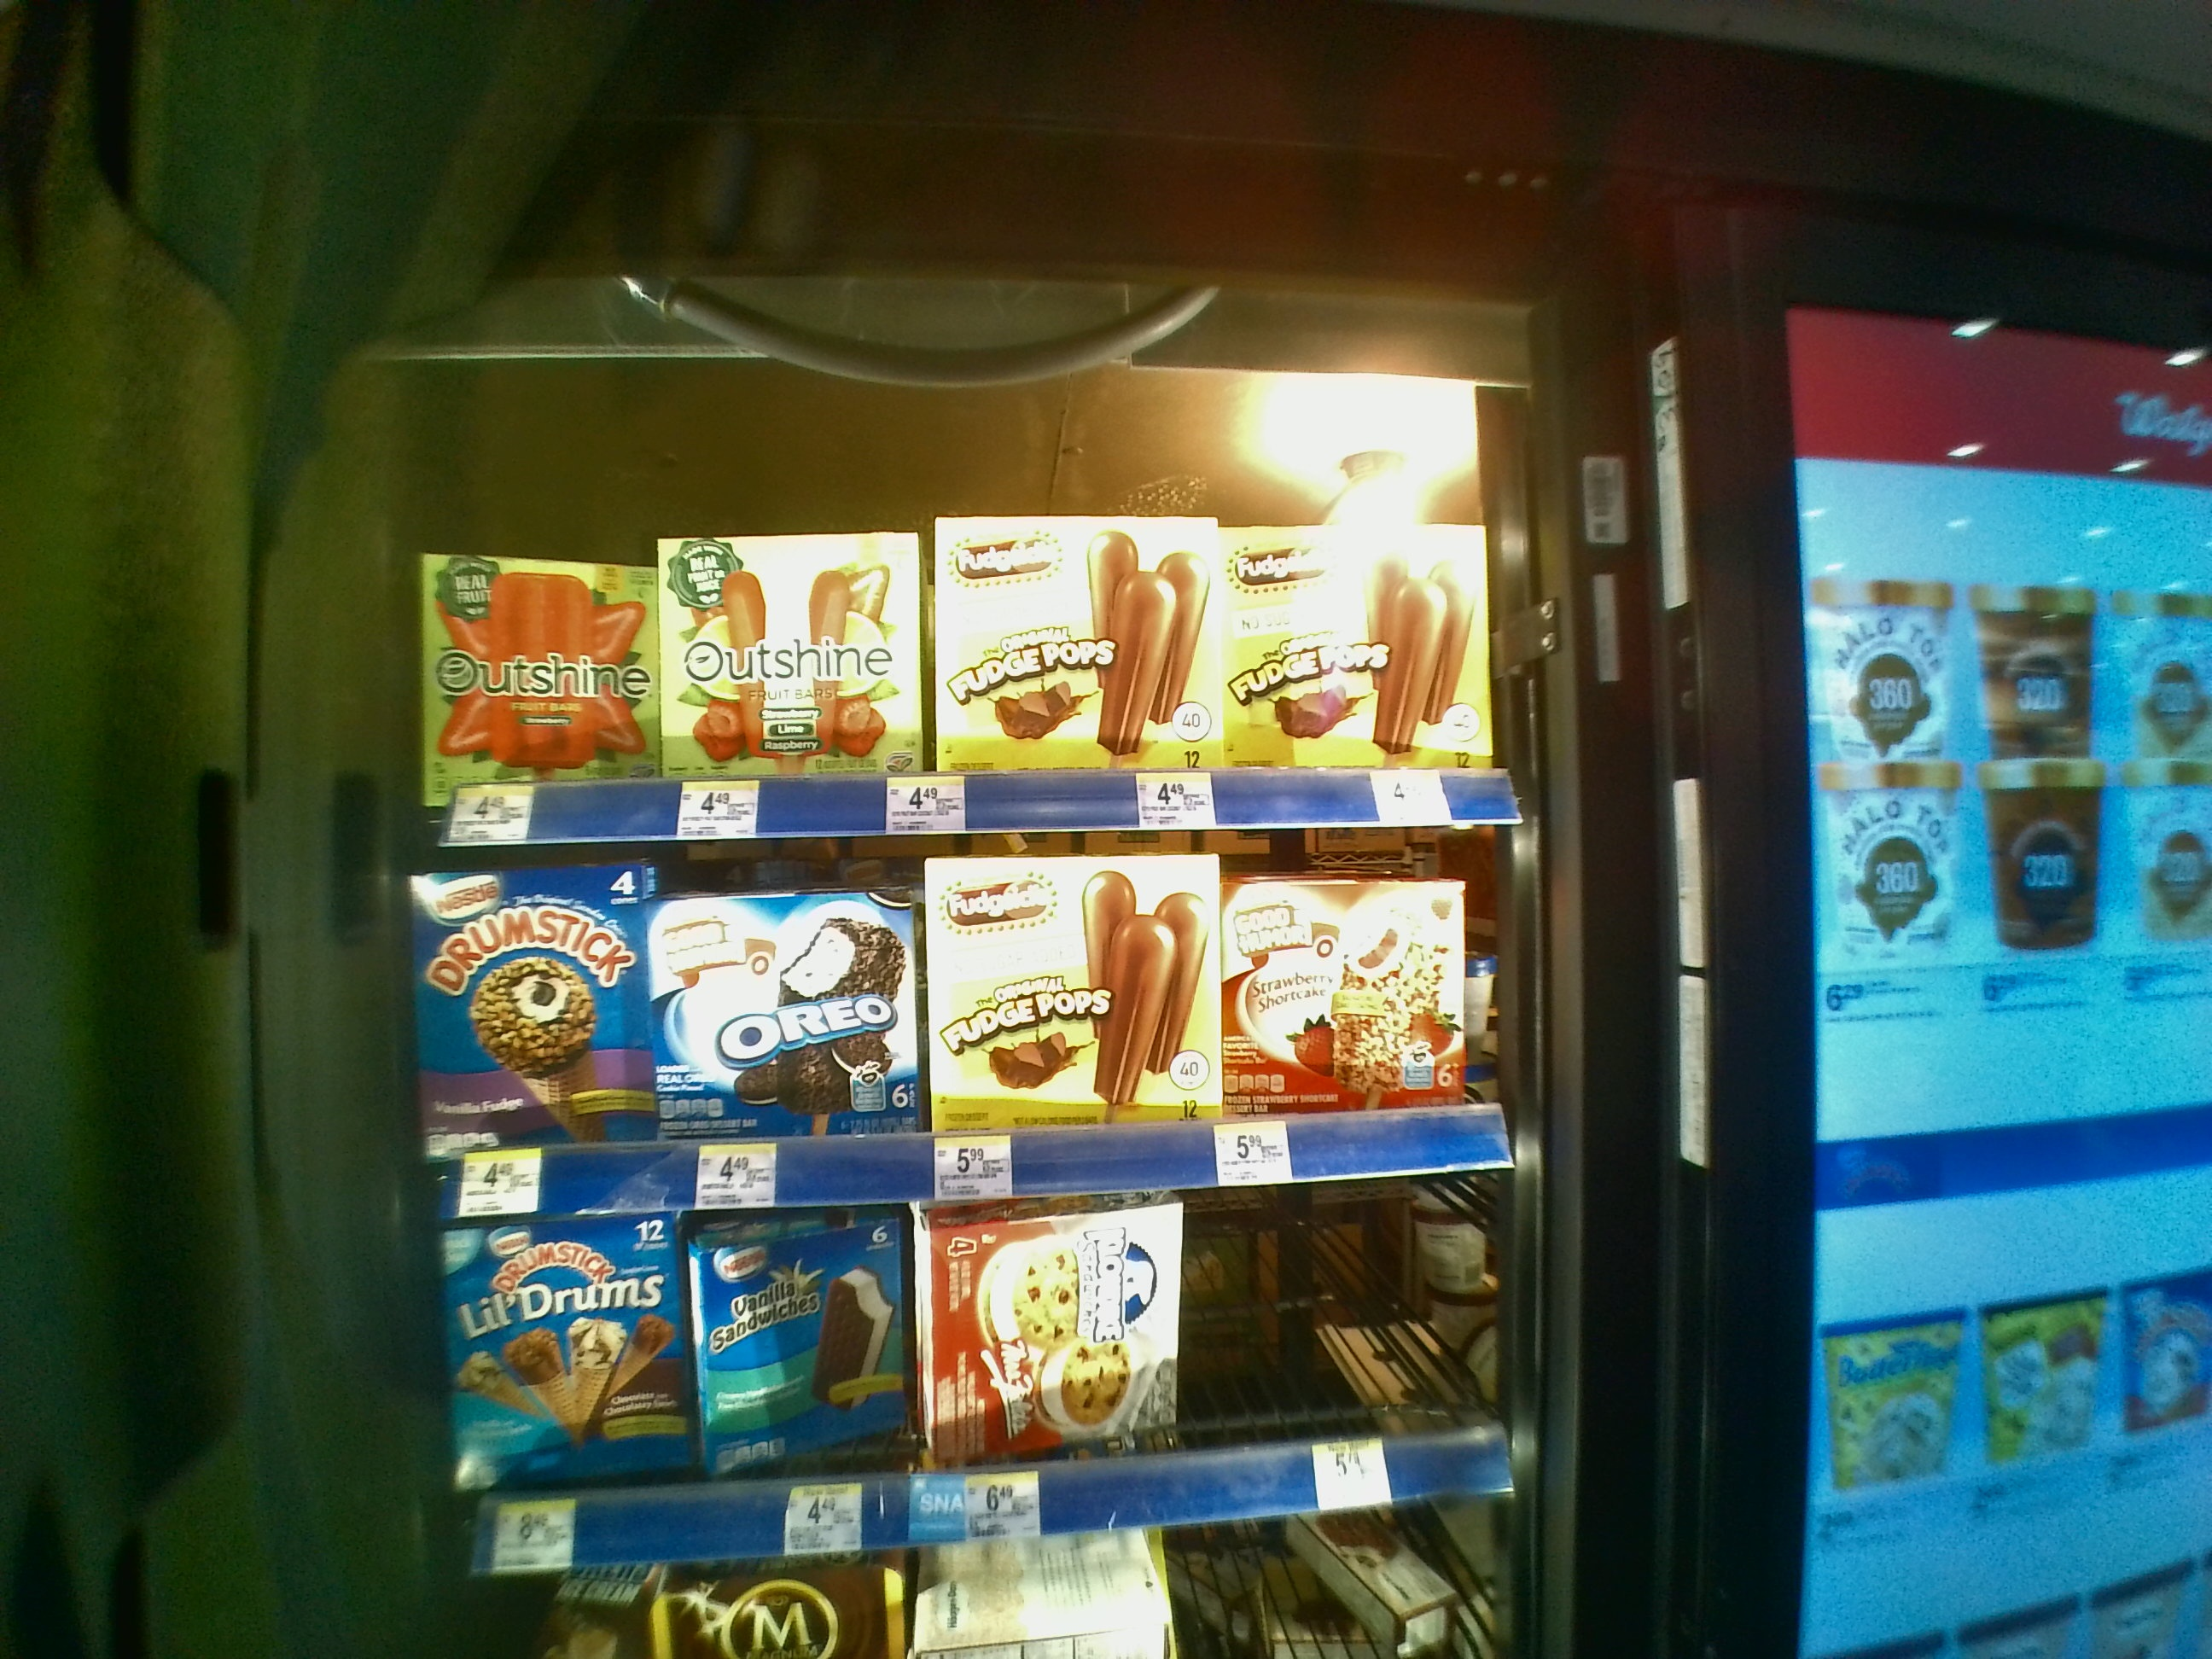shelf: (399, 441, 1508, 836), (404, 854, 1519, 1213), (411, 1236, 1514, 1577)
